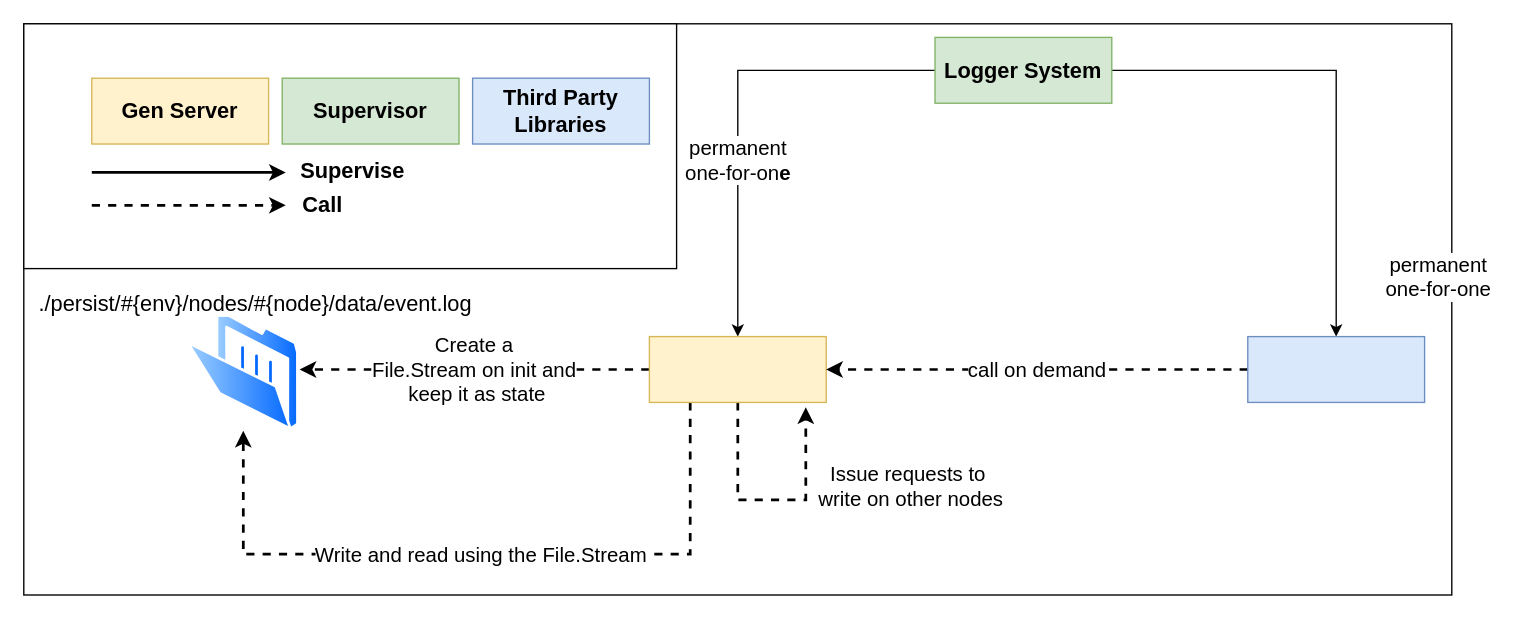
This 1515x619 diagram has some shape labels left out. Here are the shapes that lost their labels. From the top down, the centre of each, then its label:
At (737,368): "Logger".
At (1335,368): "Cowbow / Plug http service".
